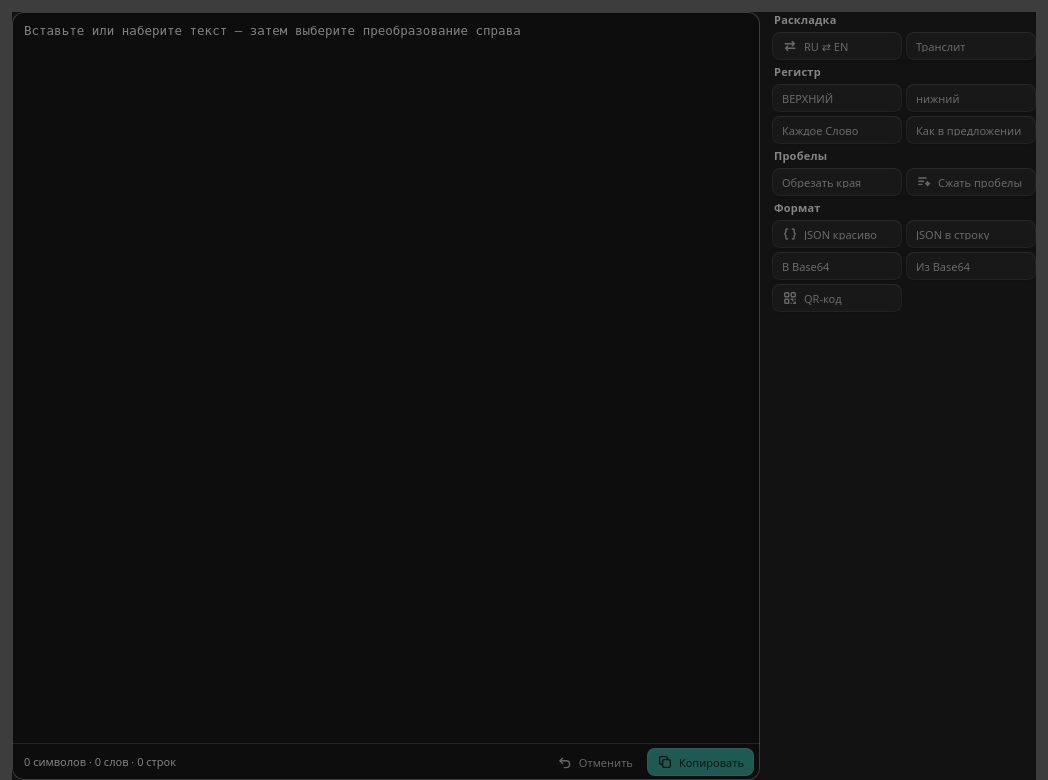
Test: Text tab › layout fix and transliteration
Replace the text in the text box named "Текст для преобразования" with "Ghbdtn" at [386, 378], box left=12, top=12, right=760, bottom=743
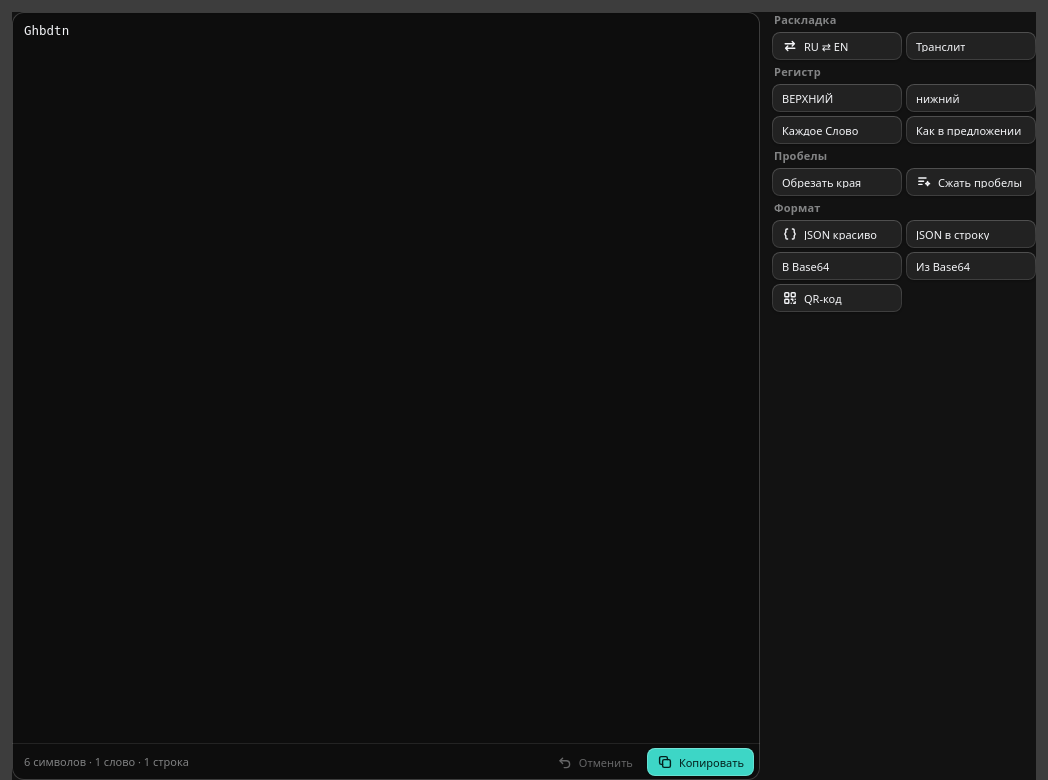
Click the button "RU ⇄ EN" at [837, 46], box left=772, top=32, right=902, bottom=60
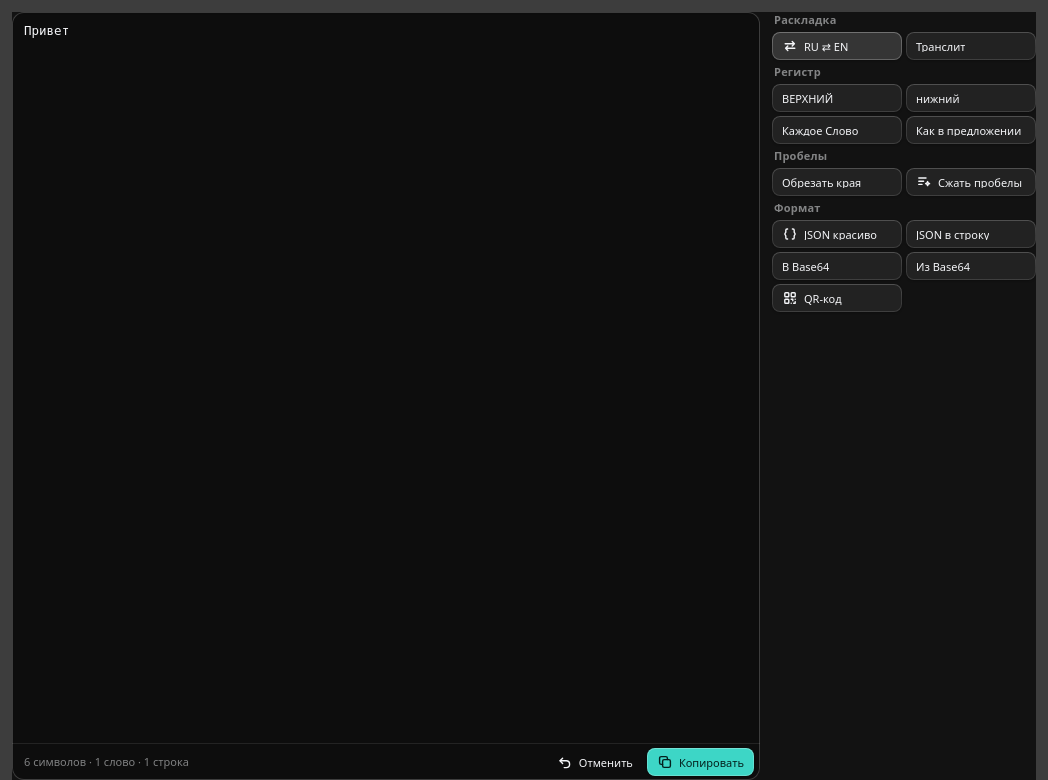
Result: the text box named "Текст для преобразования" holds "Привет"
Click the button "Транслит" at [971, 46], box left=906, top=32, right=1036, bottom=60
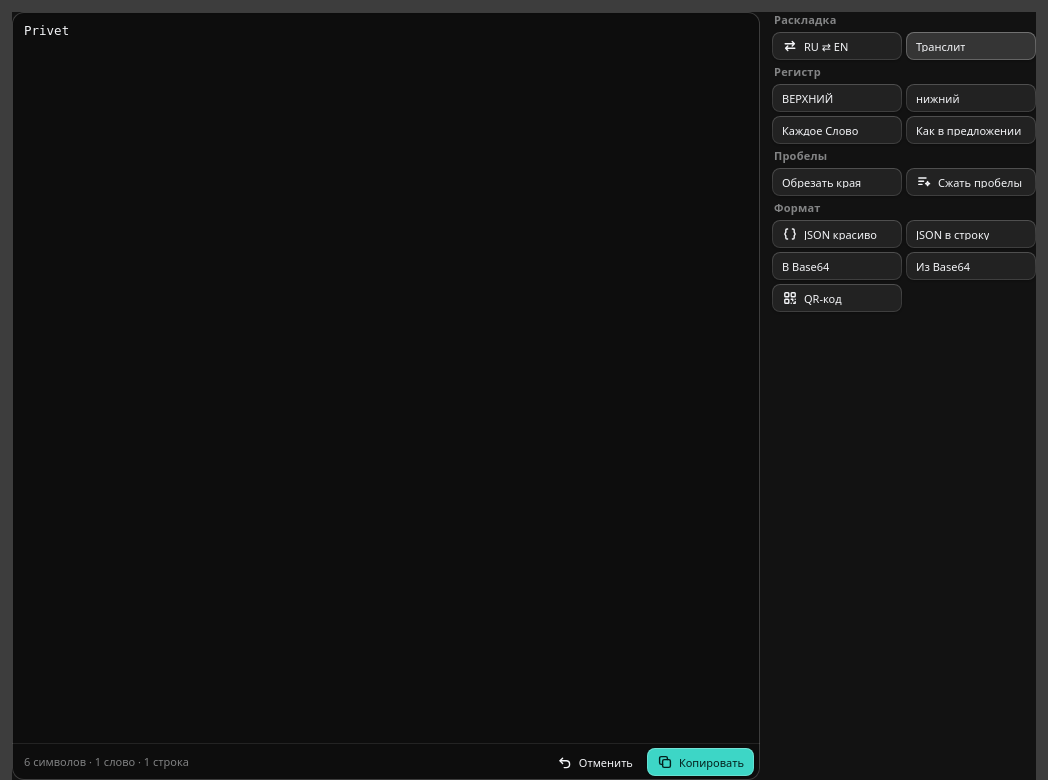
Result: the text box named "Текст для преобразования" holds "Privet"
